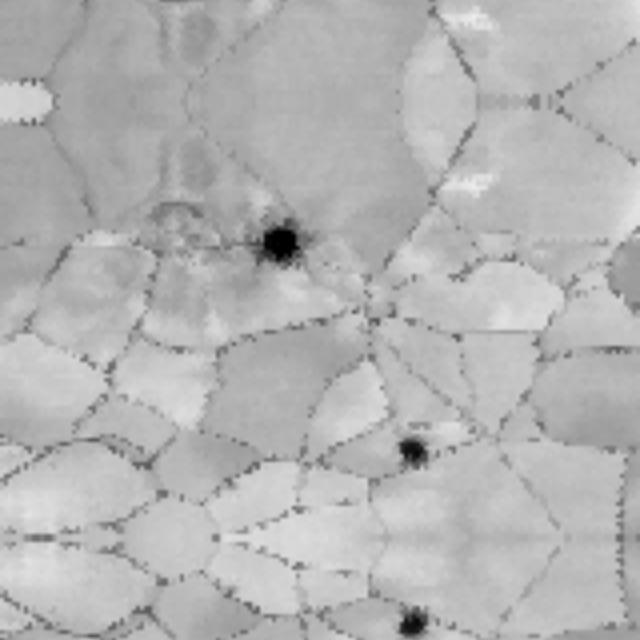good_void: (121, 185, 218, 268), (252, 212, 317, 281), (390, 423, 436, 476), (103, 438, 159, 477), (103, 599, 159, 638), (391, 600, 436, 640)
